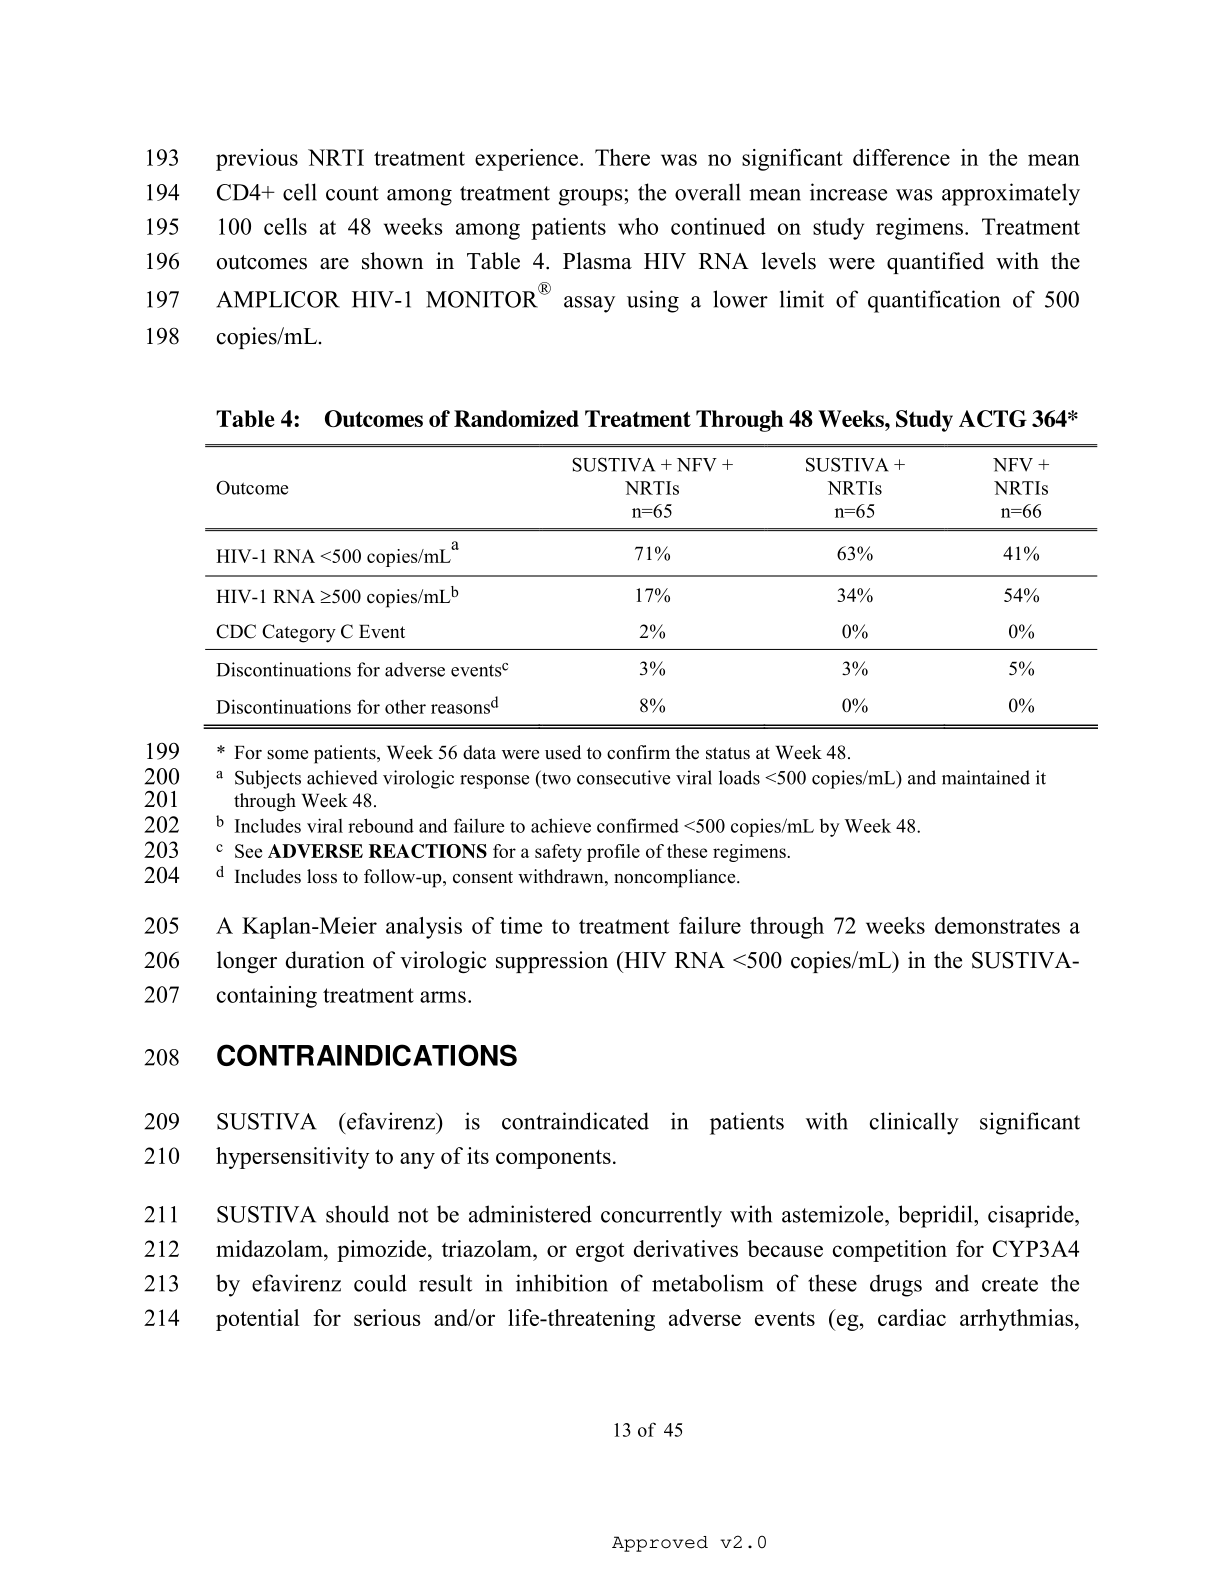partial_lined: (204, 444, 1099, 730)
